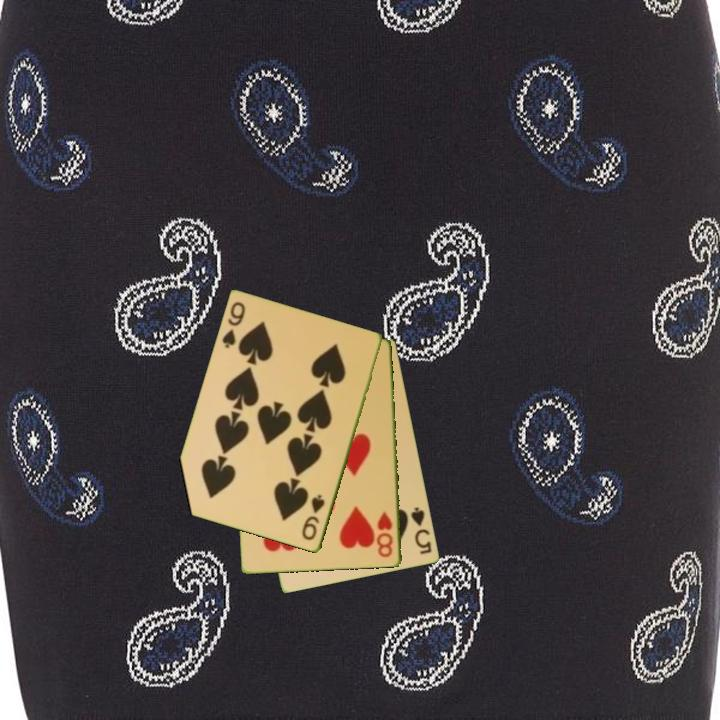5s: (408, 503, 435, 557)
8h: (374, 509, 396, 560)
9s: (298, 491, 328, 544), (219, 298, 248, 352)
